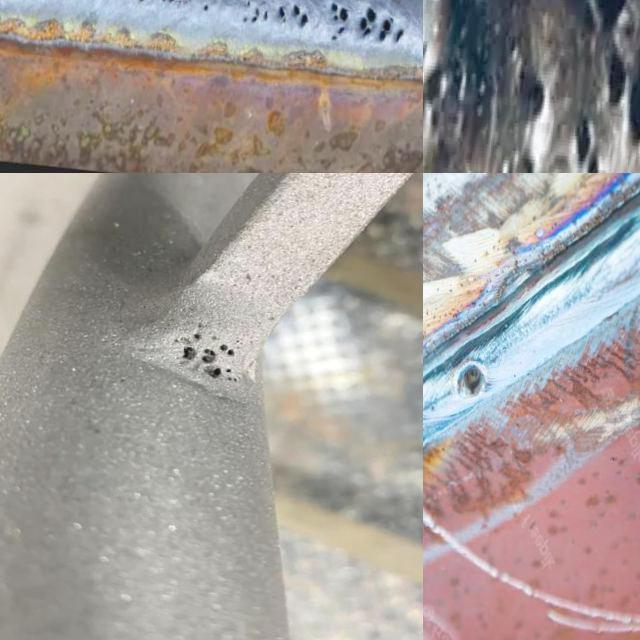defect: (423, 31, 469, 146), (598, 49, 640, 152), (570, 112, 604, 173), (455, 359, 489, 401), (527, 71, 550, 128), (329, 0, 352, 45), (277, 2, 314, 29), (205, 366, 245, 385), (241, 0, 270, 26), (357, 2, 377, 39), (379, 14, 395, 45), (178, 344, 200, 361), (200, 348, 221, 364), (217, 343, 239, 358), (196, 0, 212, 14), (395, 27, 406, 45), (235, 338, 245, 347), (162, 0, 177, 6), (192, 333, 203, 341), (195, 321, 206, 329), (211, 336, 222, 343), (138, 0, 148, 4)
